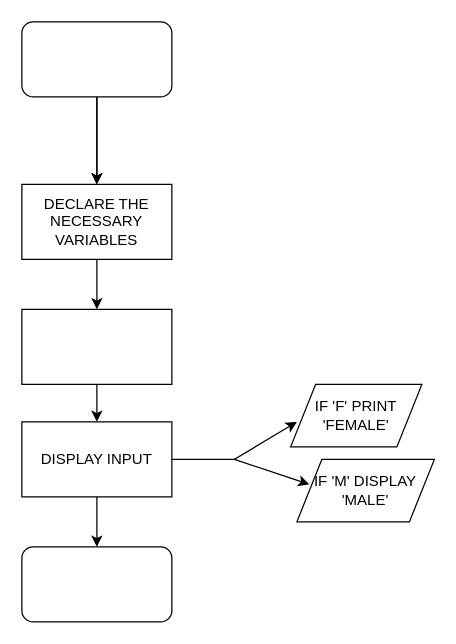
This 456x644 diagram has some shape labels left out. Here are the shapes that lost their labels. From the top down, the centre of each, then its label:
point 96,59: START
point 96,346: ACCEPT INPUT
